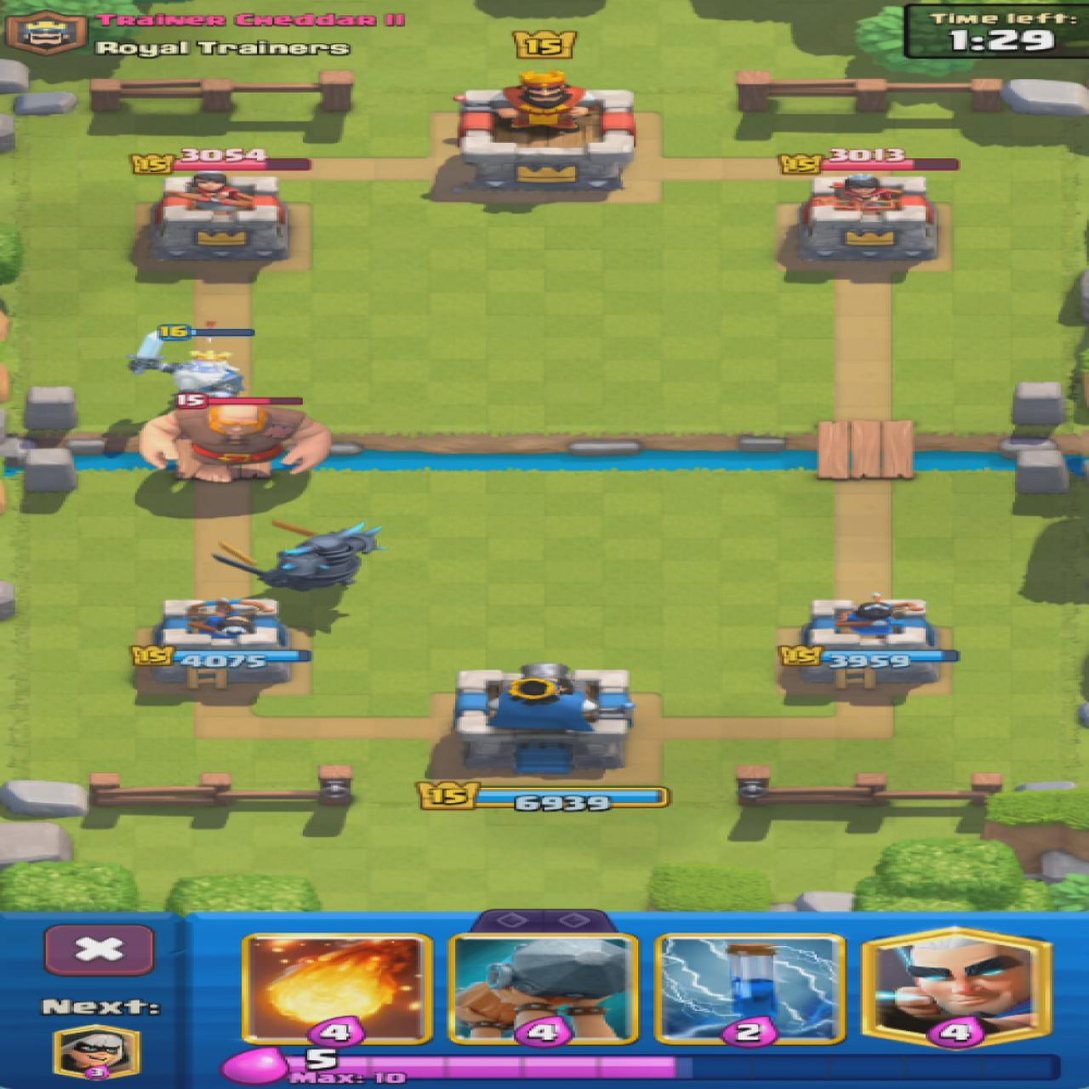Enemy-Giant: (142, 406, 329, 482)
Enemy-KingTower: (457, 73, 634, 194)
Enemy-PrincessTower: (150, 171, 287, 258), (799, 173, 934, 261)
